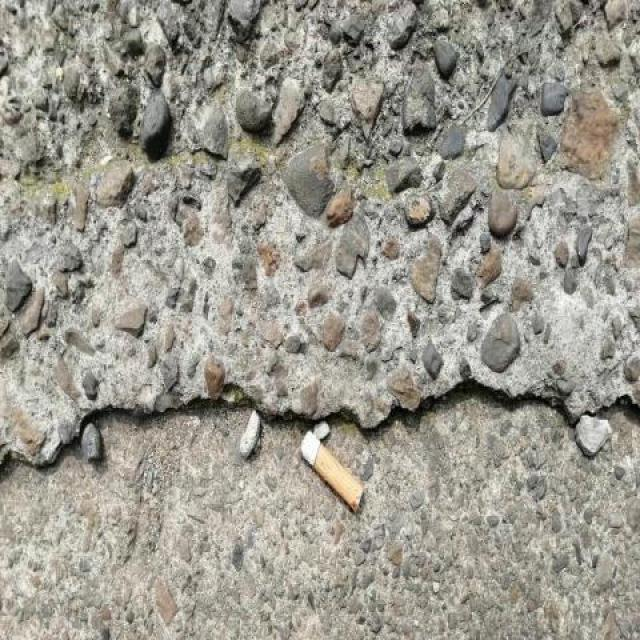non-organic waste: (294, 427, 366, 517)
